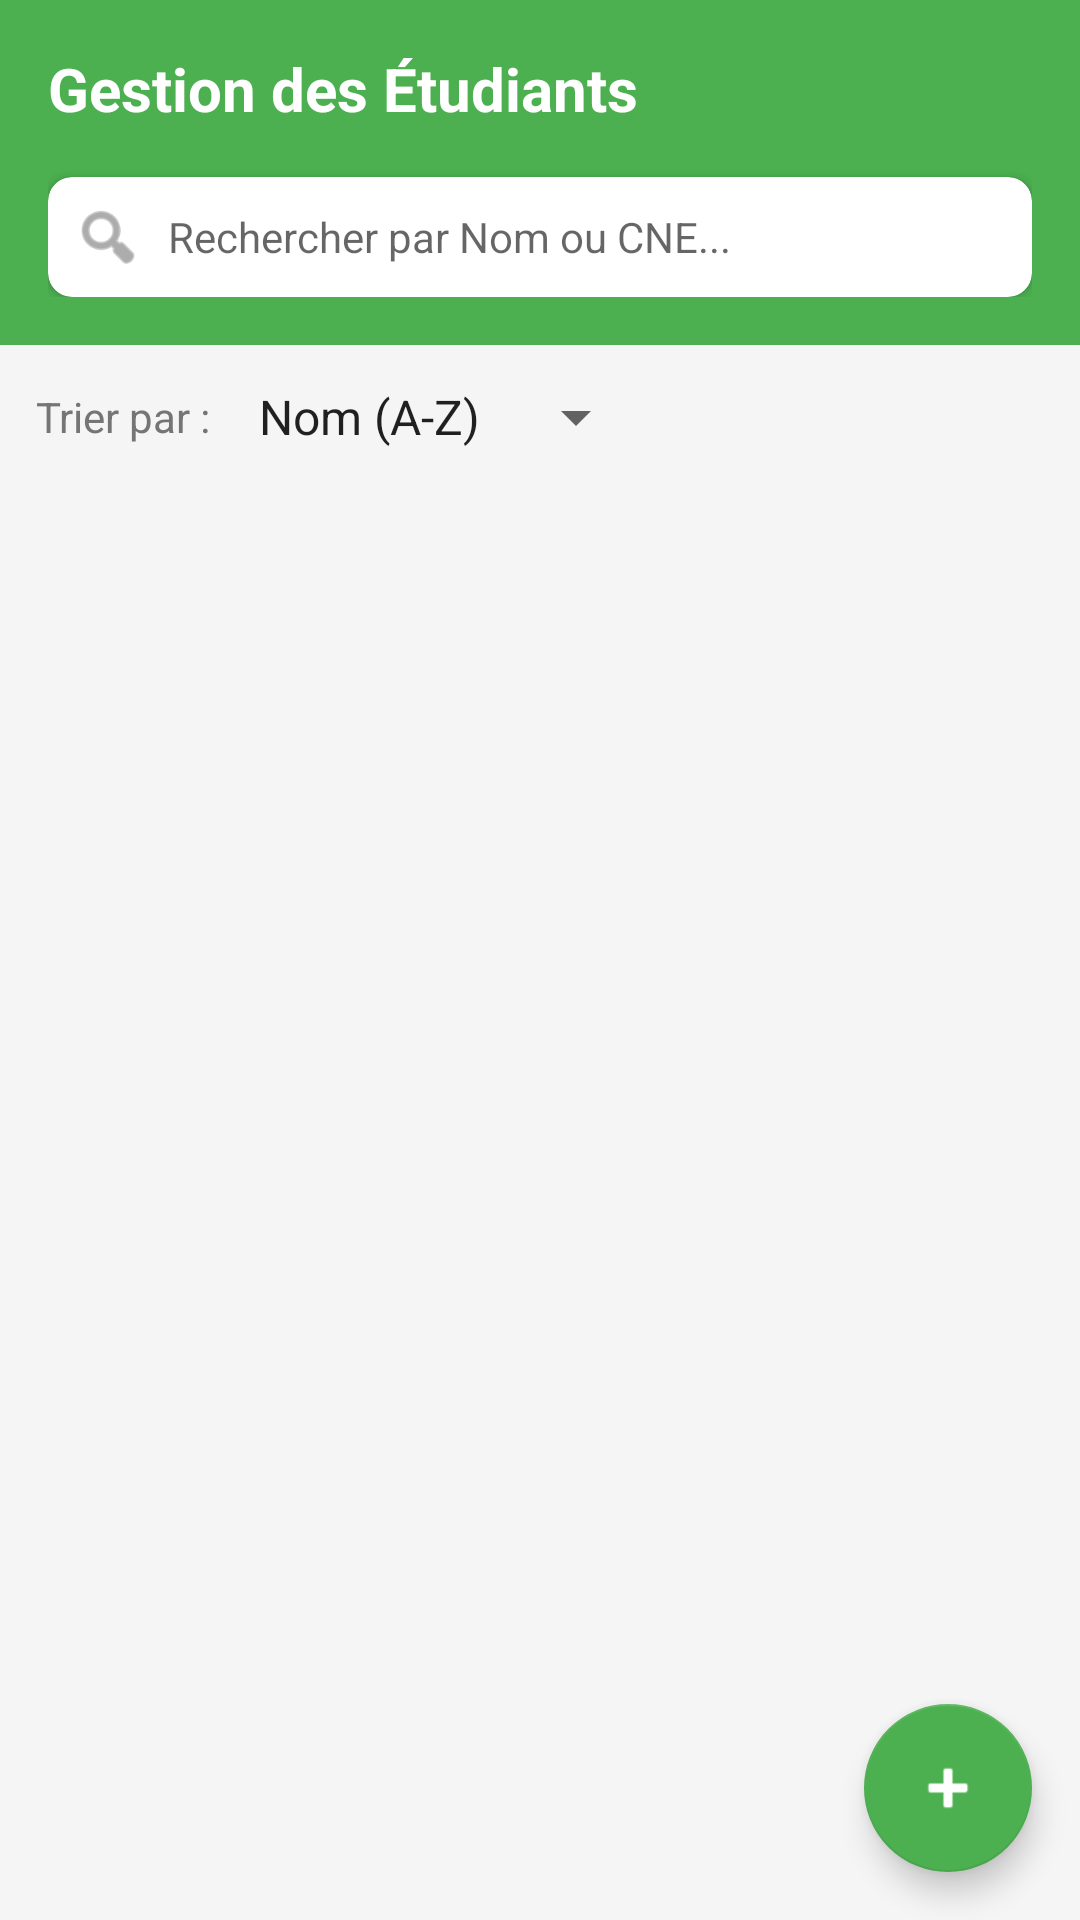

Icon bounding boxes for this 1080px x 1920px phone screenshot, format [x1,y1,x2,y2]:
add: [864,1704,1032,1872]
search: [82,211,134,264]
